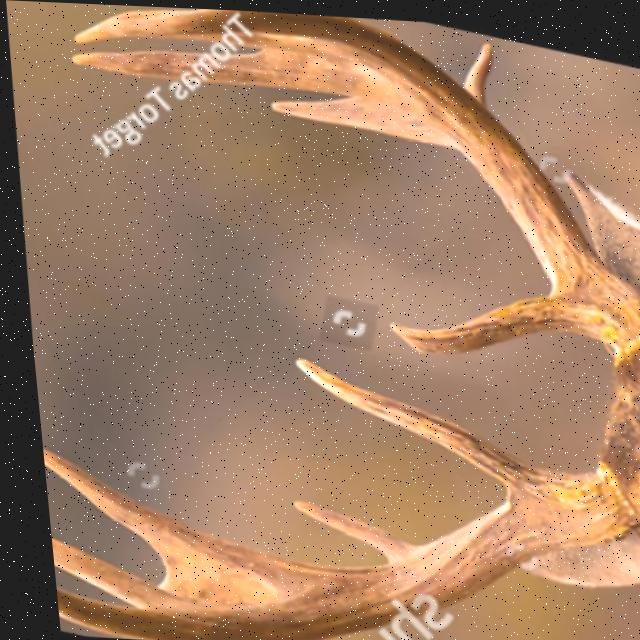L-F: (44, 454, 636, 640)
L-G1: (283, 348, 548, 494)
L-G2: (278, 492, 417, 559)
L-G3: (34, 444, 339, 592)
L-G4: (40, 532, 213, 609)
R-G1: (378, 282, 591, 352)
